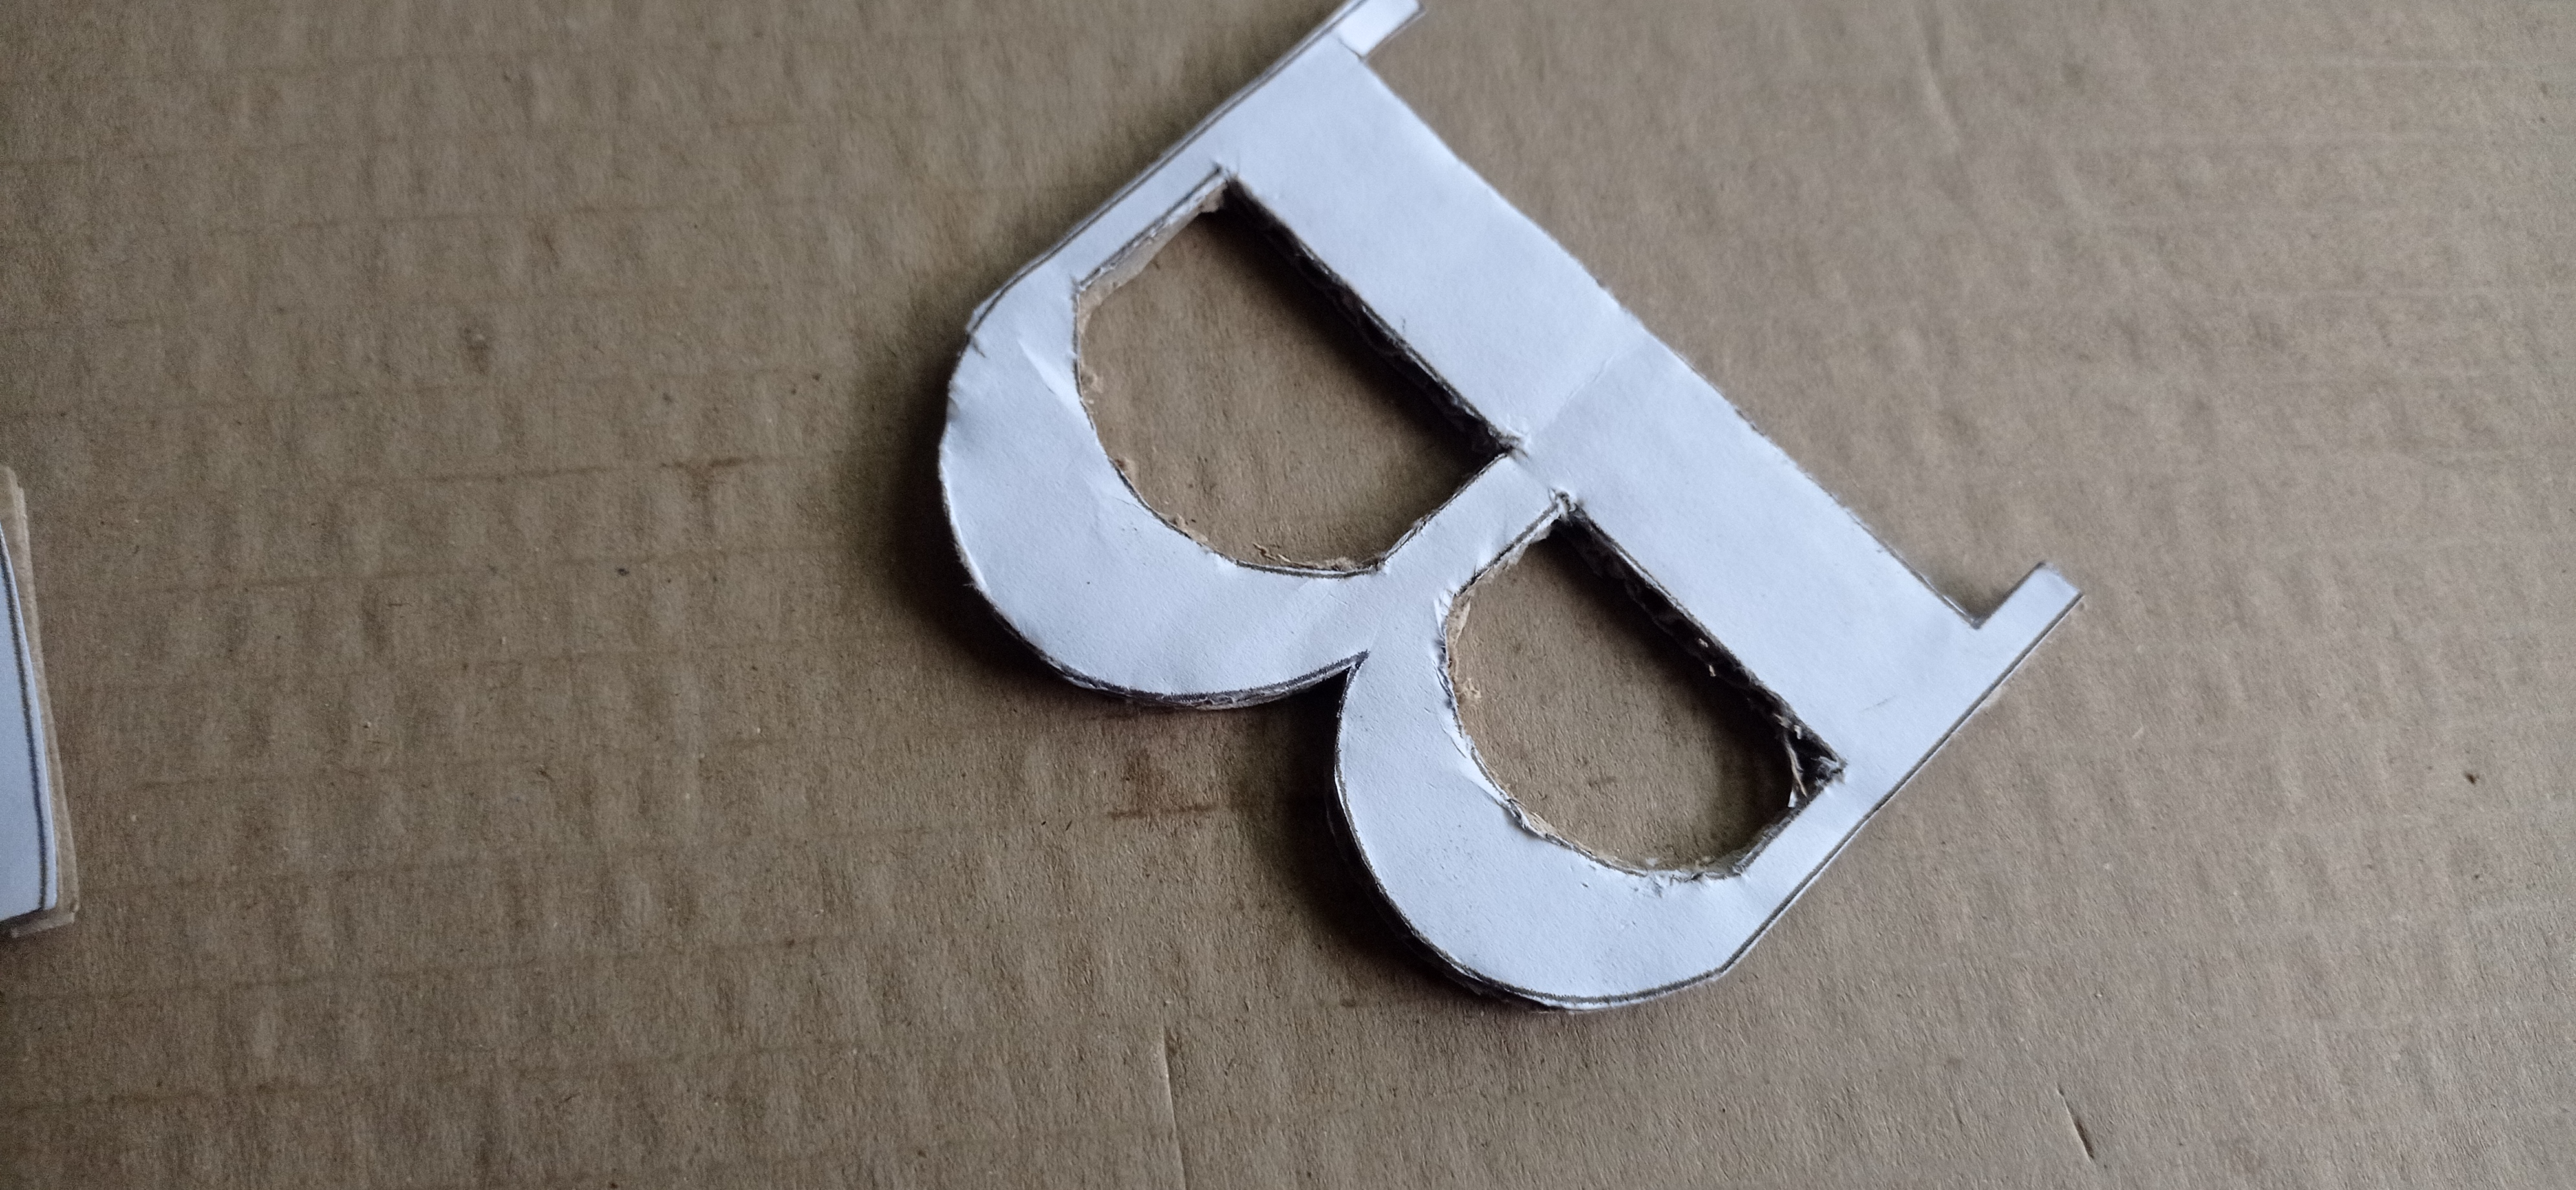v: (936, 0, 2090, 1017)
